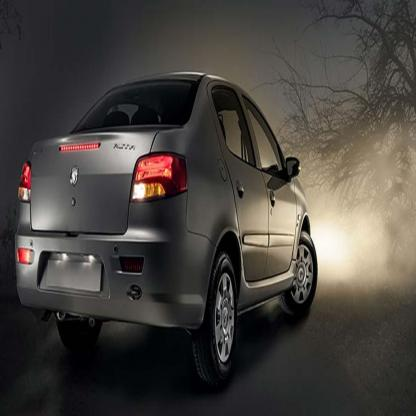Car: (5, 60, 307, 385)
